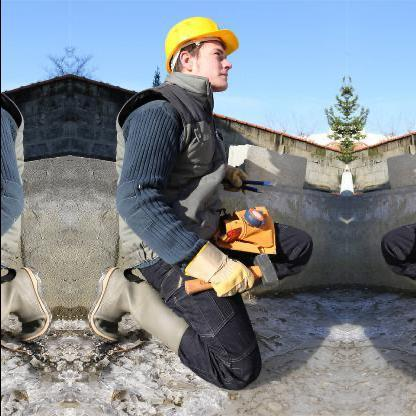Helmet: (147, 8, 243, 90)
